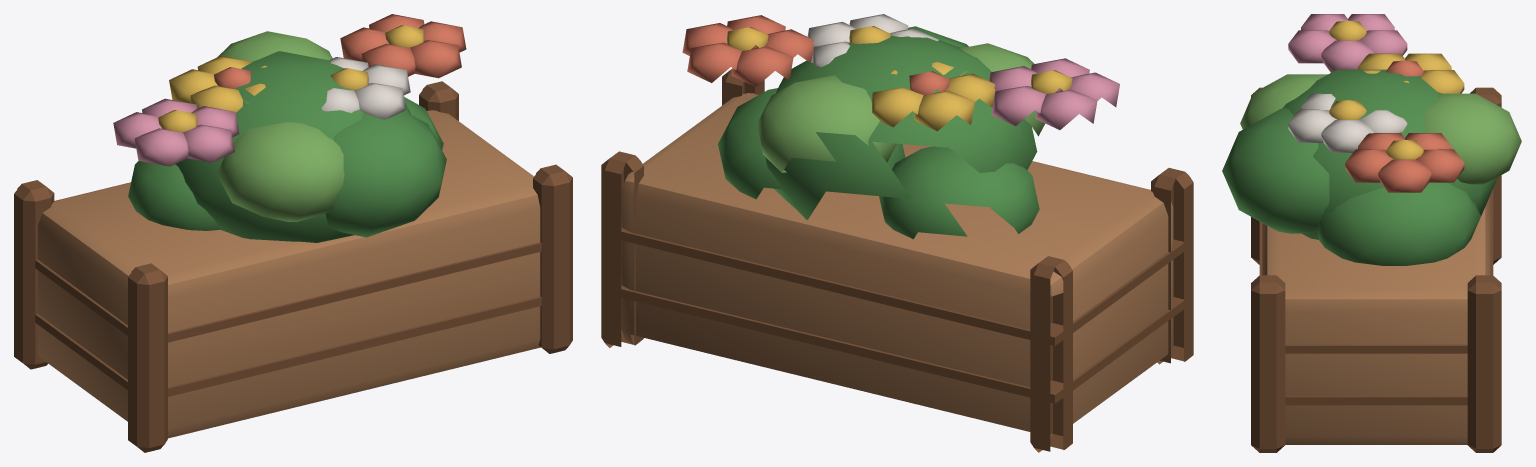
The model's file is ac_planter.glb.
3 views of the same model, side by side, from view 1: azimuth 30°, elevation 25°; view 2: azimuth 150°, elevation 25°; view 3: azimuth 270°, elevation 25° (orthographic). The views are drawn at different scales.
Visible parts, largest first — view 1: box; view 2: box; view 3: box.
Part boxes in pixels (x1,y1,x2,y2): box: [14, 14, 572, 452]; box: [601, 14, 1193, 452]; box: [1222, 14, 1521, 452].
Size of the model in its own units: 1.68 by 1.07 by 1.05.
